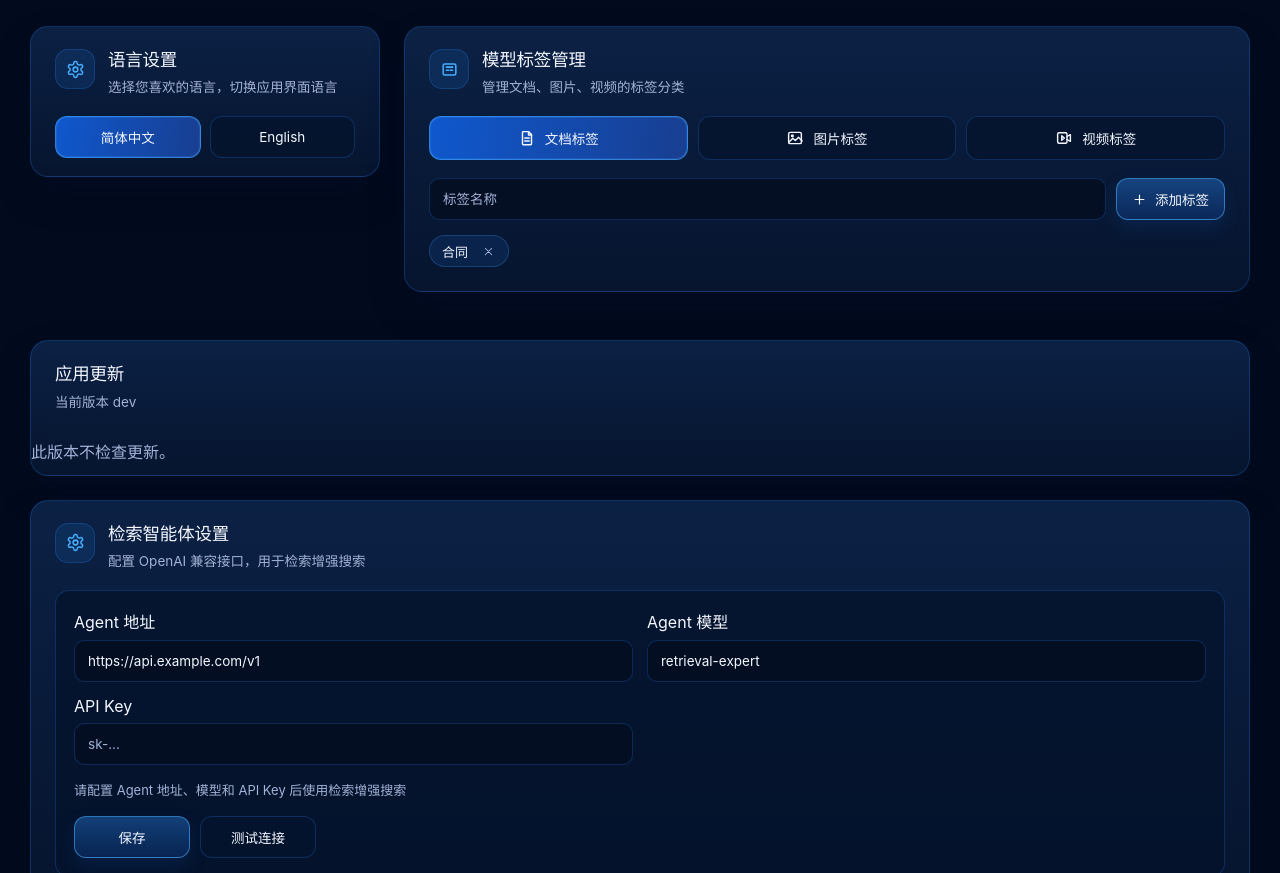
Test: SettingsPage › tests the current agent settings
The image size is (1280, 873).
Expected: the text "合同" is shown, top-left (442, 242), bottom-right (468, 261)
Expected: the button "测试连接" is enabled, top-left (200, 816), bottom-right (316, 858)
Type "https://api.updated.com/v1" into the field labelled "Agent 地址" at [354, 661], box top-left (74, 640), bottom-right (633, 682)
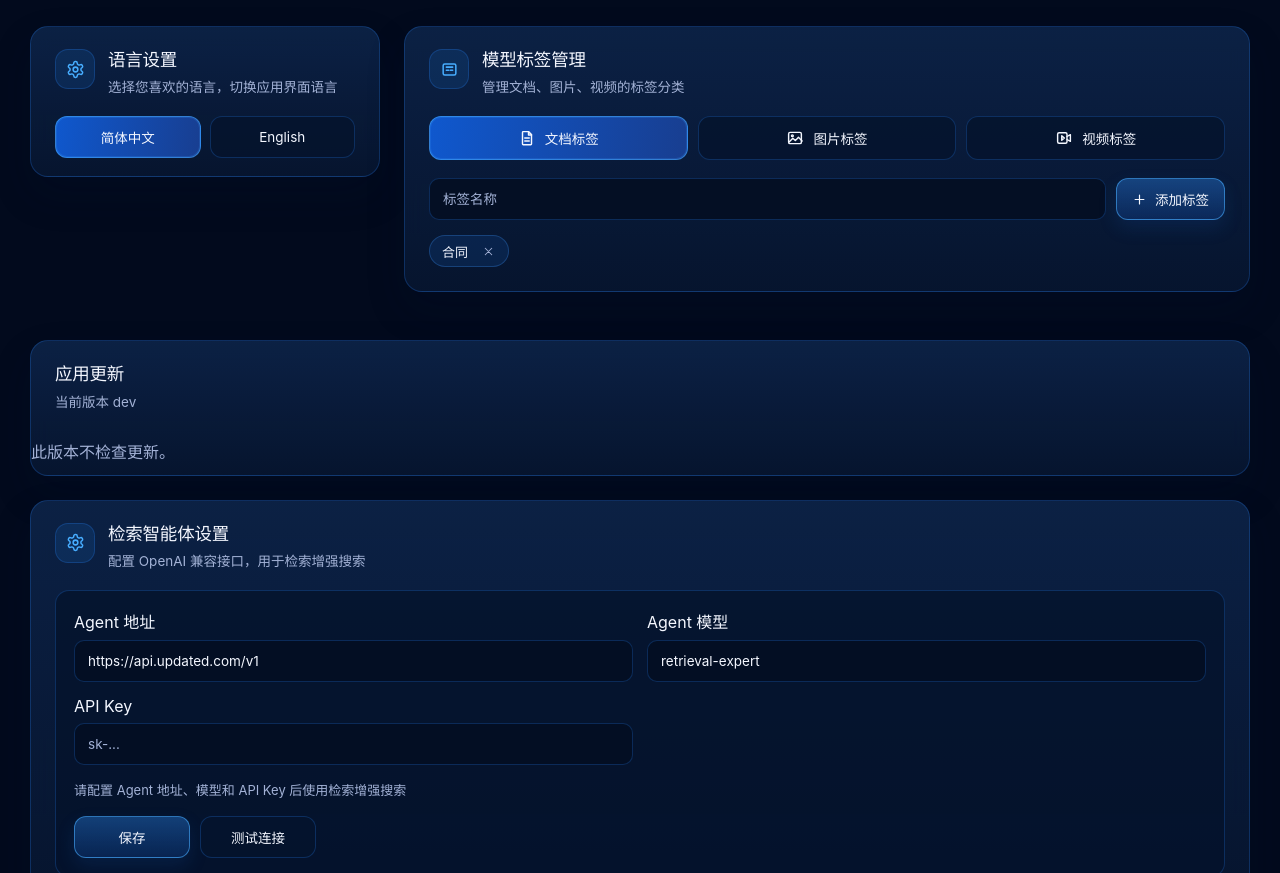
Type "new-secret" into the password field labelled "API Key" at [354, 744], box top-left (74, 723), bottom-right (633, 765)
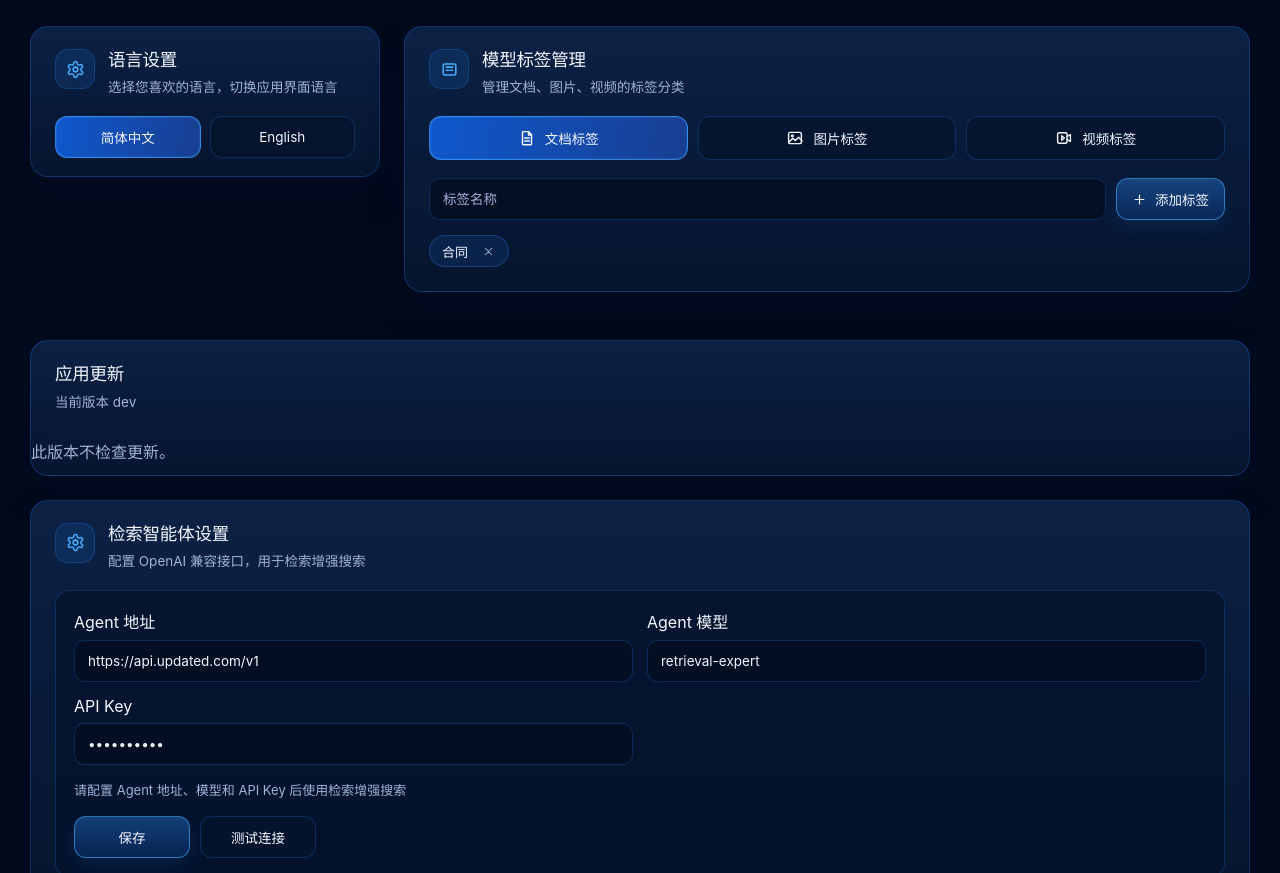
Click the button "测试连接" at [258, 837], box top-left (200, 816), bottom-right (316, 858)
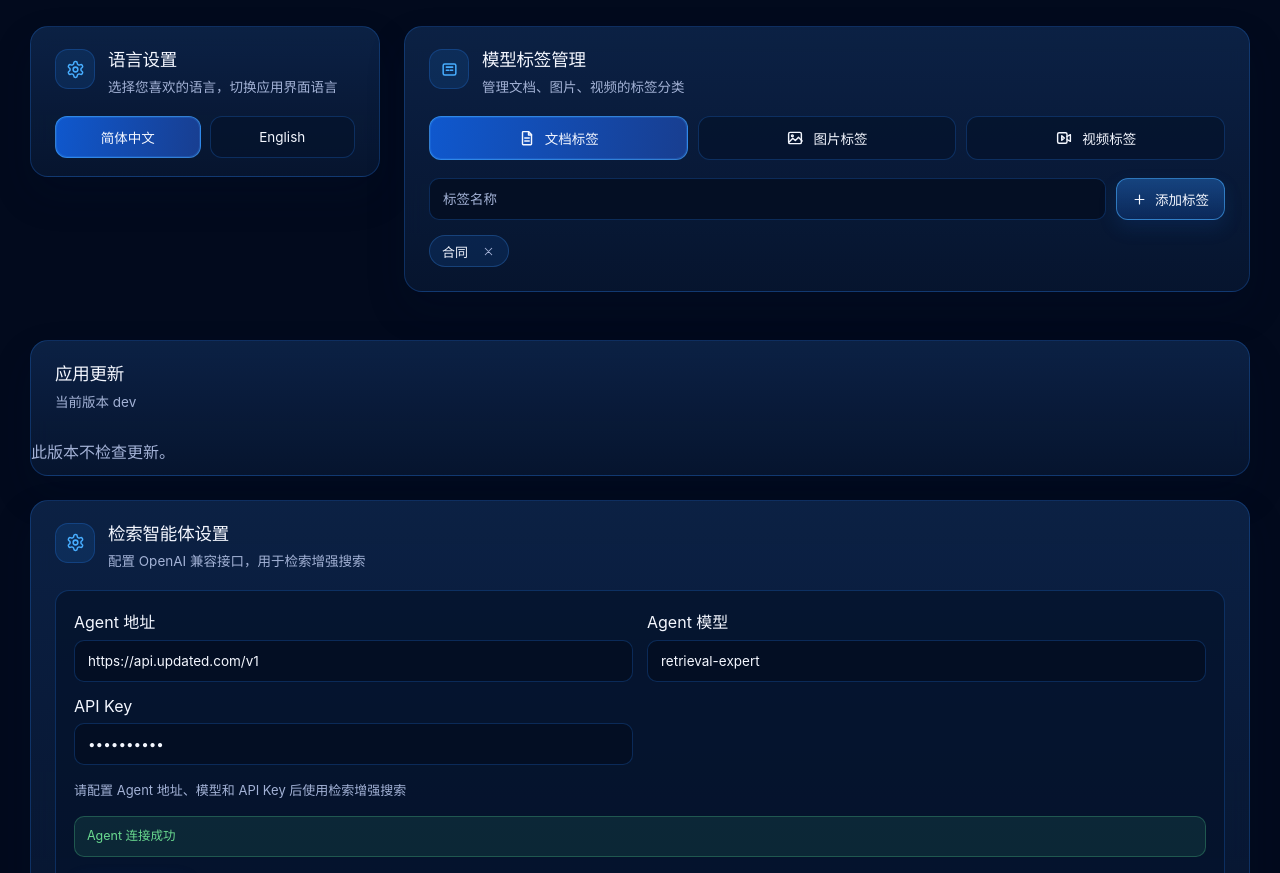
Result: the text "Agent 连接成功" is shown at top-left (74, 816), bottom-right (1206, 856)
